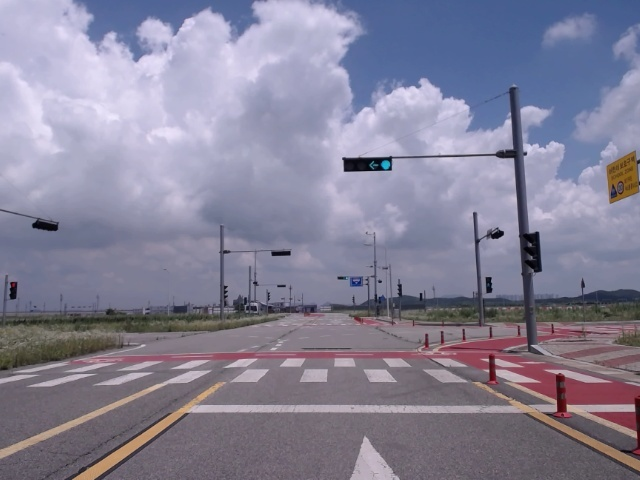all_green_4: (339, 156, 391, 169)
